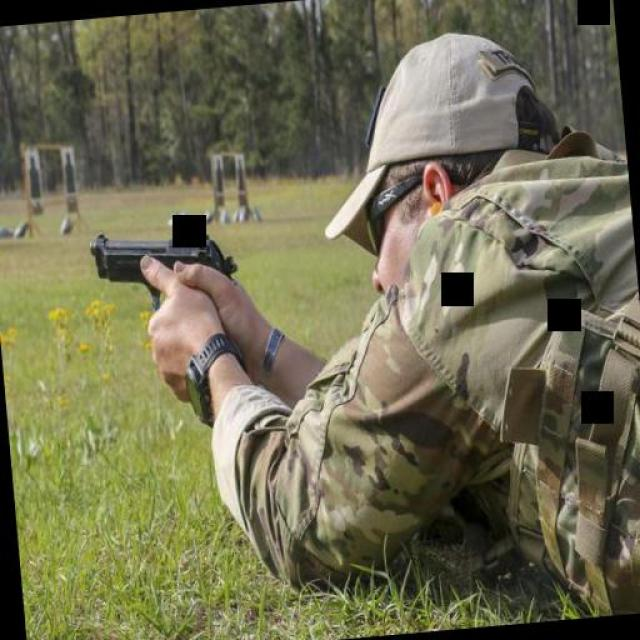gun: (82, 211, 242, 335)
